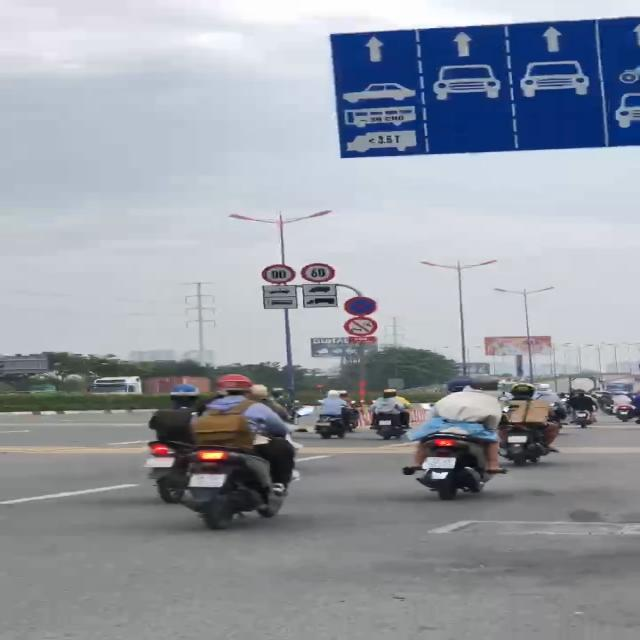Bien bao cam dung xe va do xe: (343, 296, 379, 316)
Bien bao toc do toi da cho phep: (299, 262, 338, 284)
